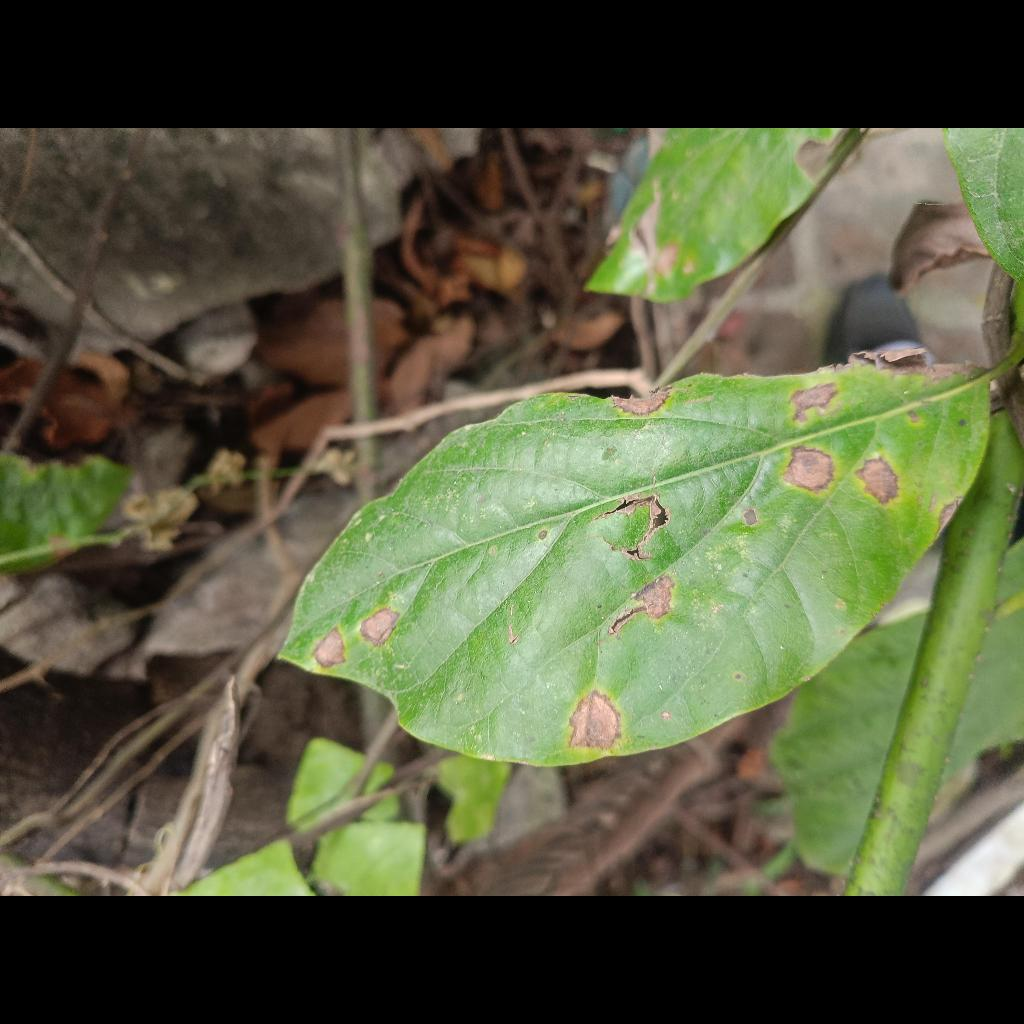antracnosis_hoja: (281, 334, 1024, 896), (281, 363, 989, 765)
